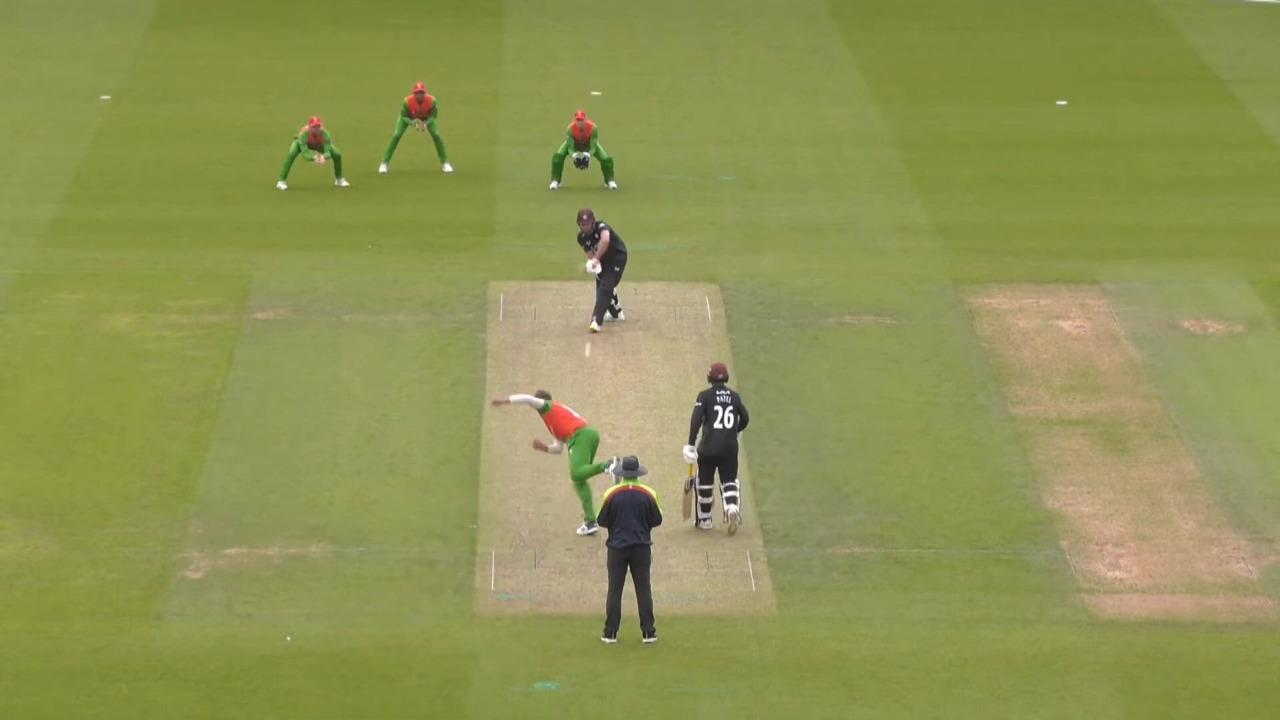sports ball: (585, 343, 591, 358)
